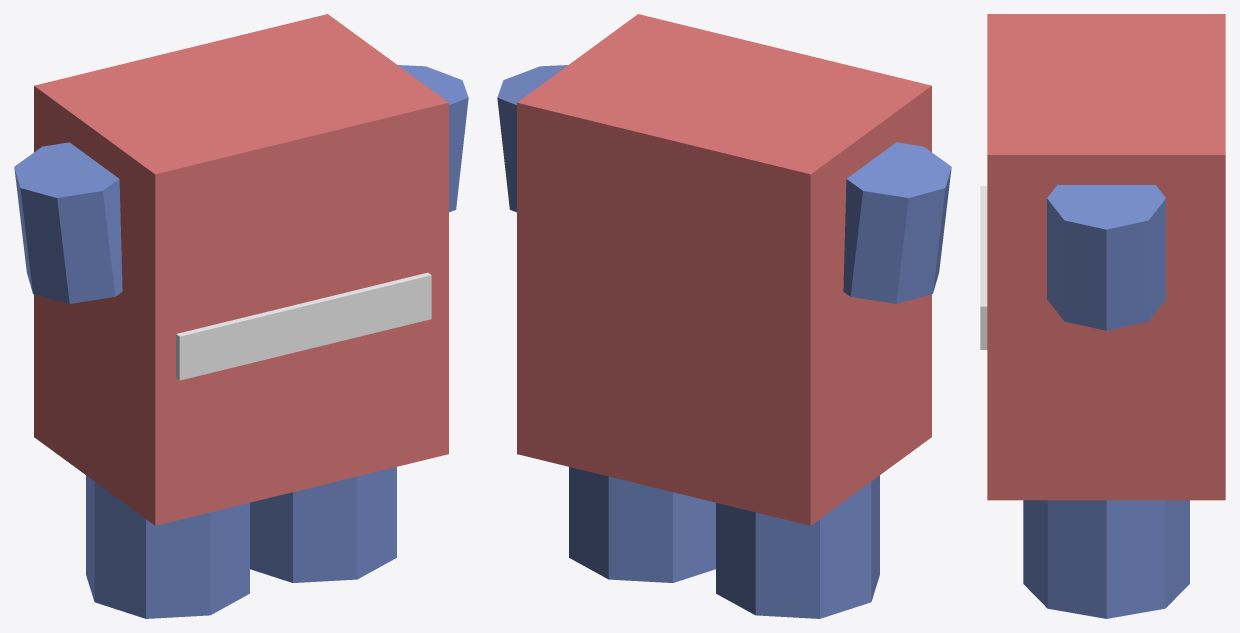
File: life_jacket_sailing.glb
3 views of the same model, side by side, from view 1: azimuth 30°, elevation 25°; view 2: azimuth 150°, elevation 25°; view 3: azimuth 270°, elevation 25° (orthographic).
Visible parts, largest first — view 1: top, collar, pant, sleeve, pant.001, strap, sleeve.001; view 2: top, collar, pant, sleeve, pant.001, sleeve.001; view 3: top, collar, pant.001, sleeve.001, strap.
Boxes of the visible parts, <box> form: top: <box>34,115,448,525</box>; collar: <box>34,14,448,240</box>; pant: <box>86,475,249,618</box>; sleeve: <box>14,142,122,303</box>; pant.001: <box>250,467,396,582</box>; strap: <box>176,272,431,380</box>; sleeve.001: <box>398,65,468,212</box>; top: <box>517,109,931,525</box>; collar: <box>517,14,931,240</box>; pant: <box>716,475,879,618</box>; sleeve: <box>843,142,951,303</box>; pant.001: <box>569,467,715,582</box>; sleeve.001: <box>497,65,567,212</box>; top: <box>987,176,1225,500</box>; collar: <box>987,14,1225,219</box>; pant.001: <box>1023,500,1189,618</box>; sleeve.001: <box>1047,185,1165,330</box>; strap: <box>980,186,987,349</box>.
Bounding box in the file's own units: 0.4213 × 0.43 × 0.206.
